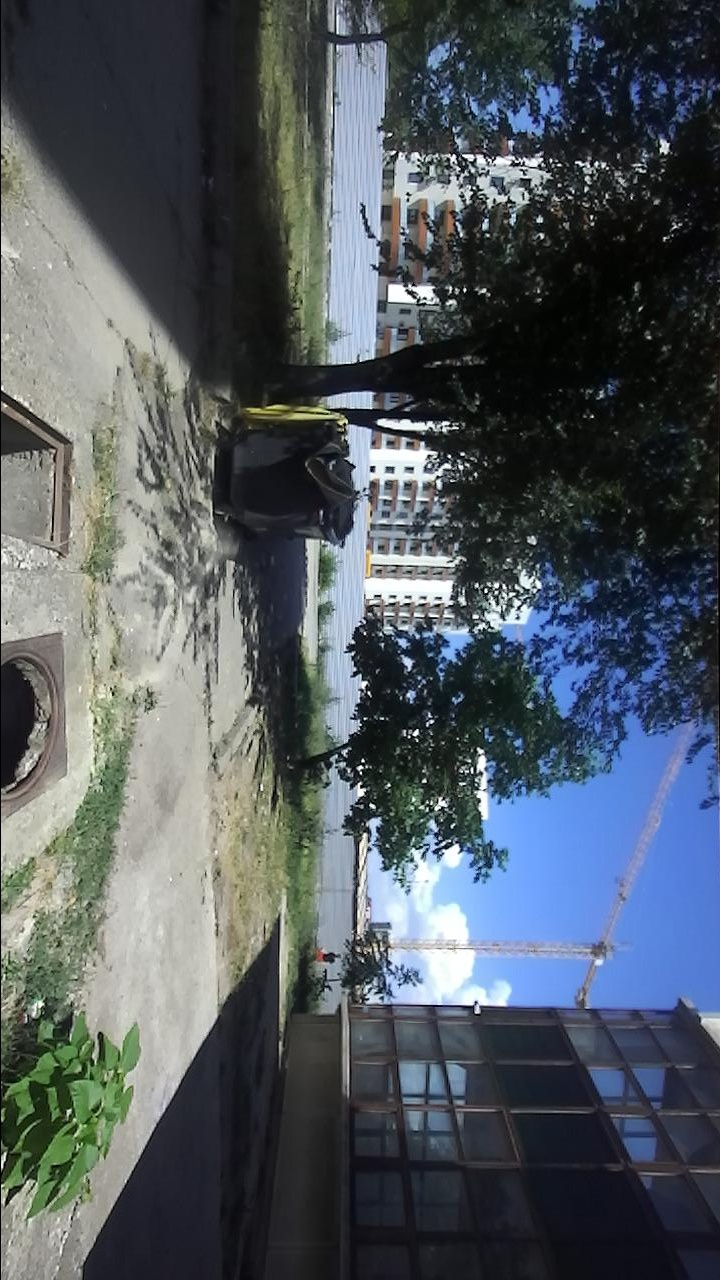drain: (0, 382, 75, 559), (2, 648, 61, 805)
